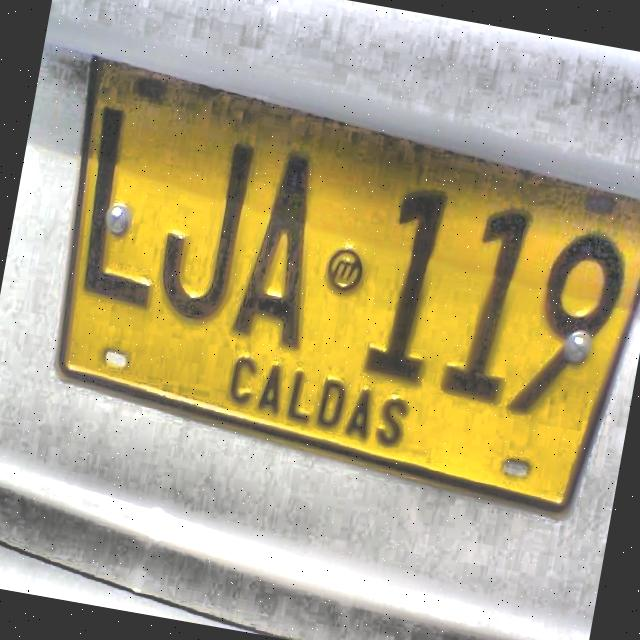1: (436, 181, 539, 413), (358, 175, 458, 392)
9: (501, 221, 640, 436)
A: (227, 139, 336, 358)
J: (148, 114, 260, 330)
L: (76, 100, 168, 318)
